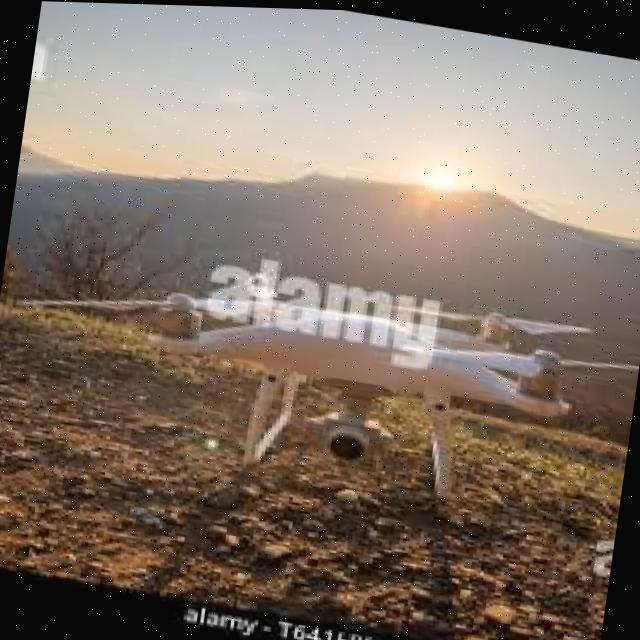drone: (16, 220, 640, 542)
